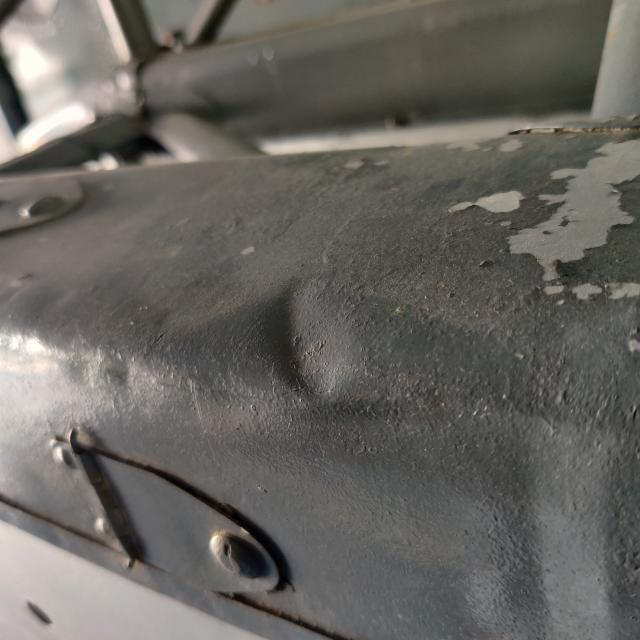dent: (243, 260, 365, 418)
paint-off: (422, 132, 640, 346)
